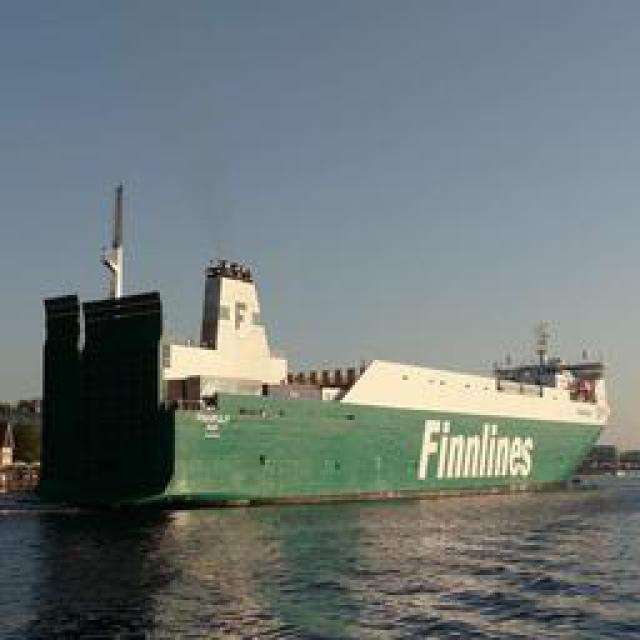Ship: (18, 202, 621, 526)
